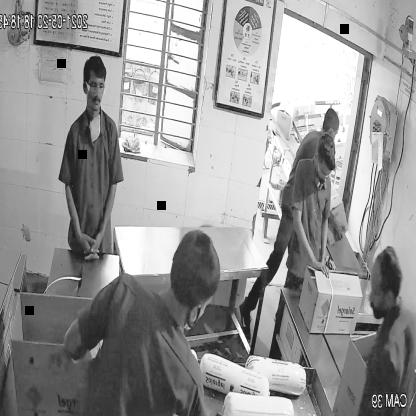goggles: (83, 80, 107, 96)
